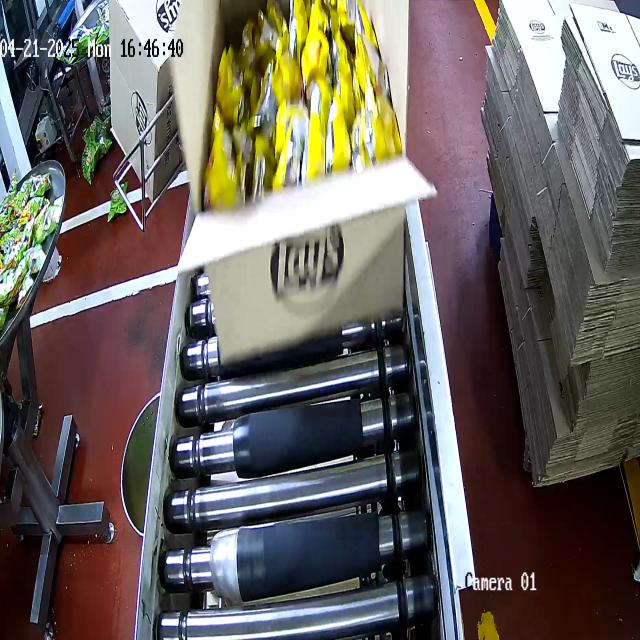SALTED: (202, 0, 402, 214)
